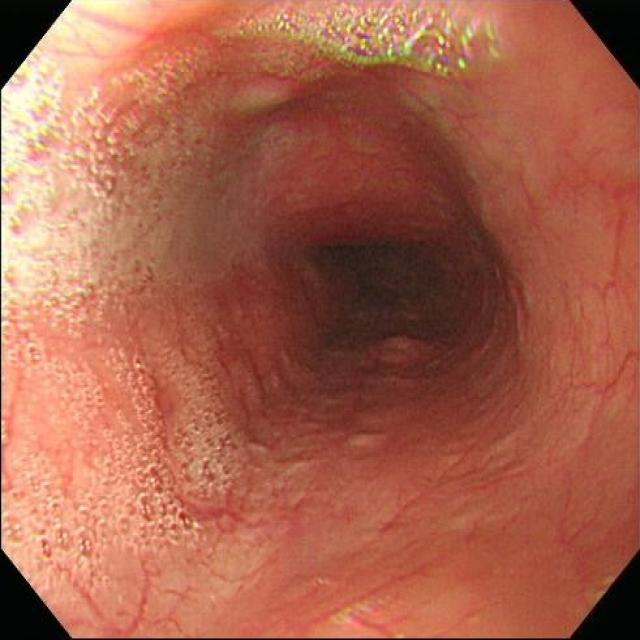E: (301, 222, 482, 359)
J: (242, 394, 324, 564)
T: (4, 95, 104, 319), (225, 2, 500, 70), (4, 467, 103, 577), (104, 438, 177, 549), (180, 387, 234, 505), (26, 339, 107, 416), (117, 345, 164, 430), (125, 51, 202, 98)
